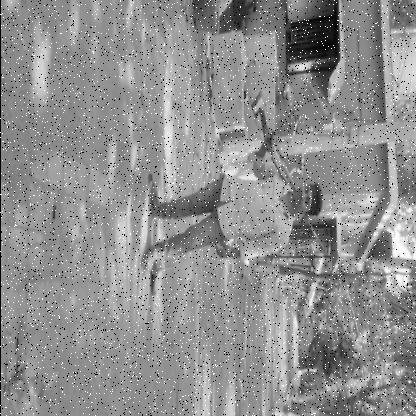rifle: (249, 88, 328, 258)
